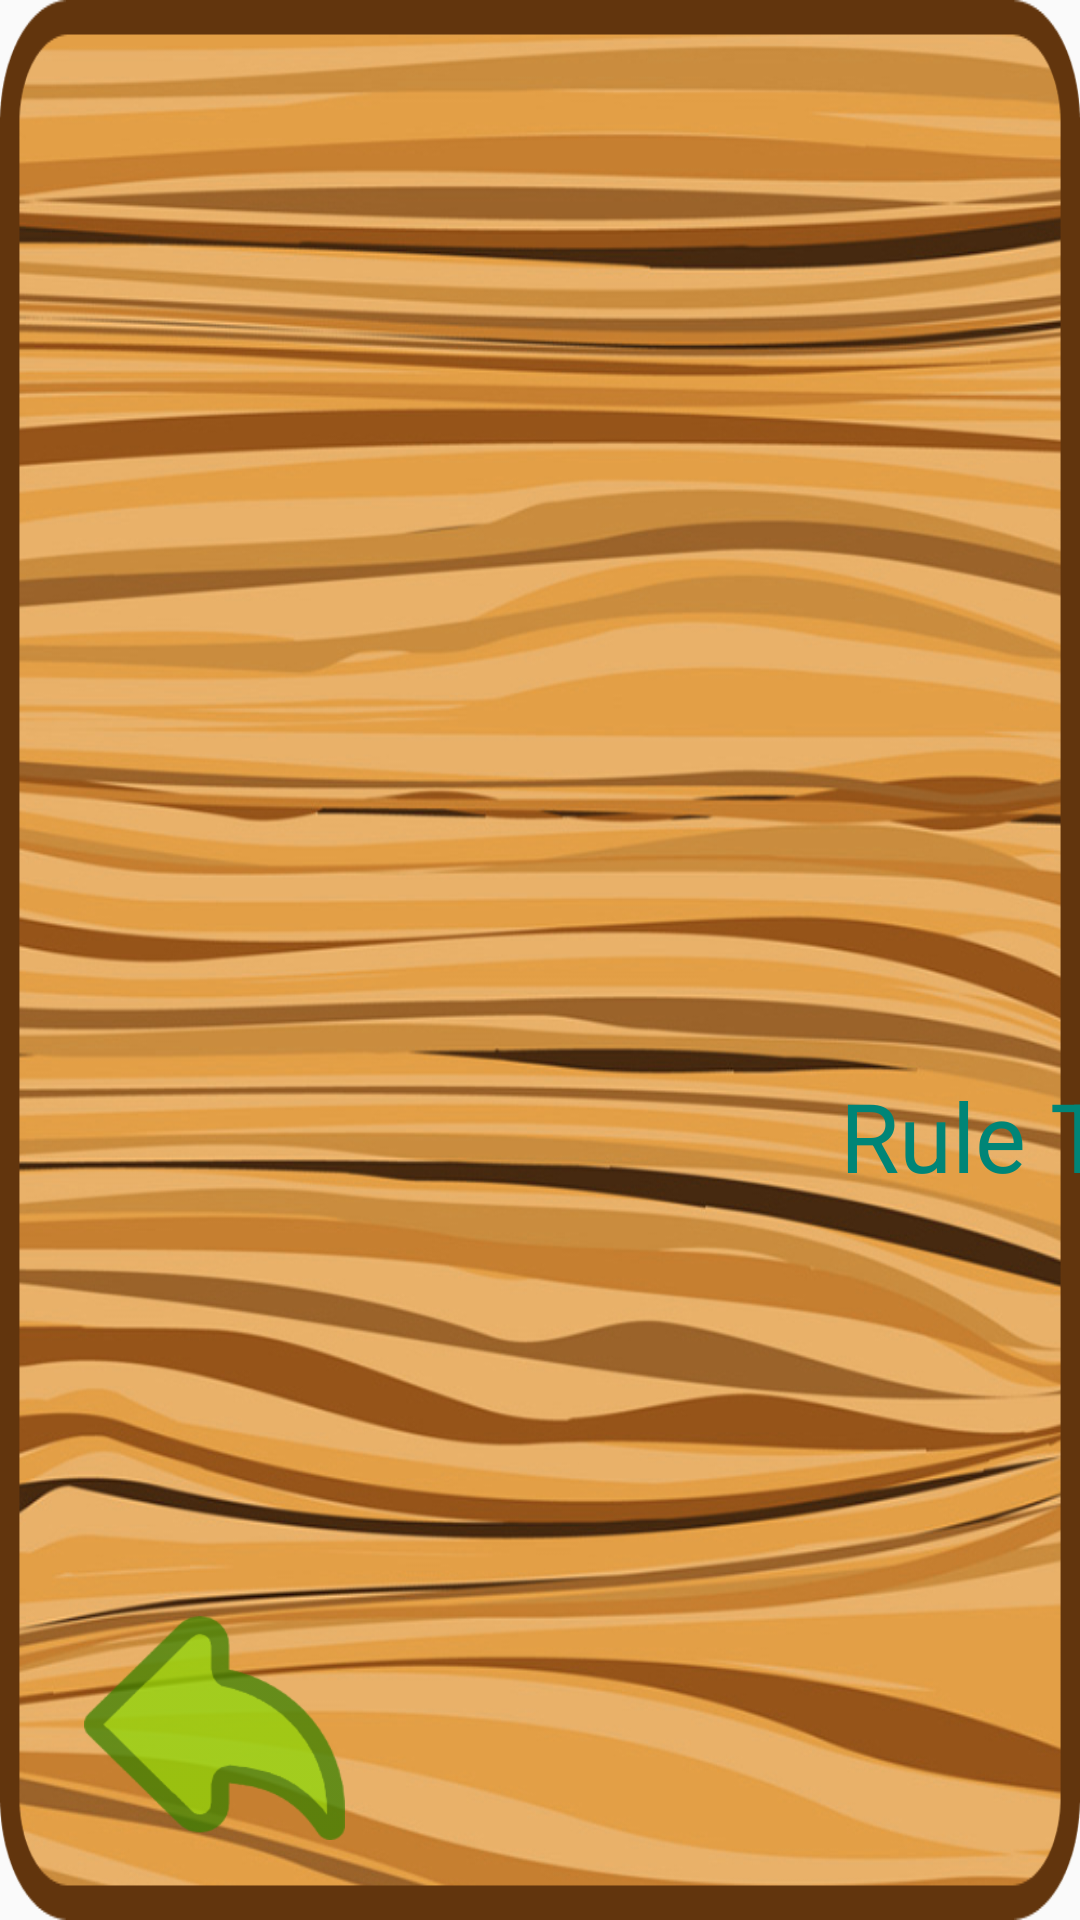

Screen size 1080×1920. Icon name, then its center in pixels as [x,y]:
back: [214,1728]
